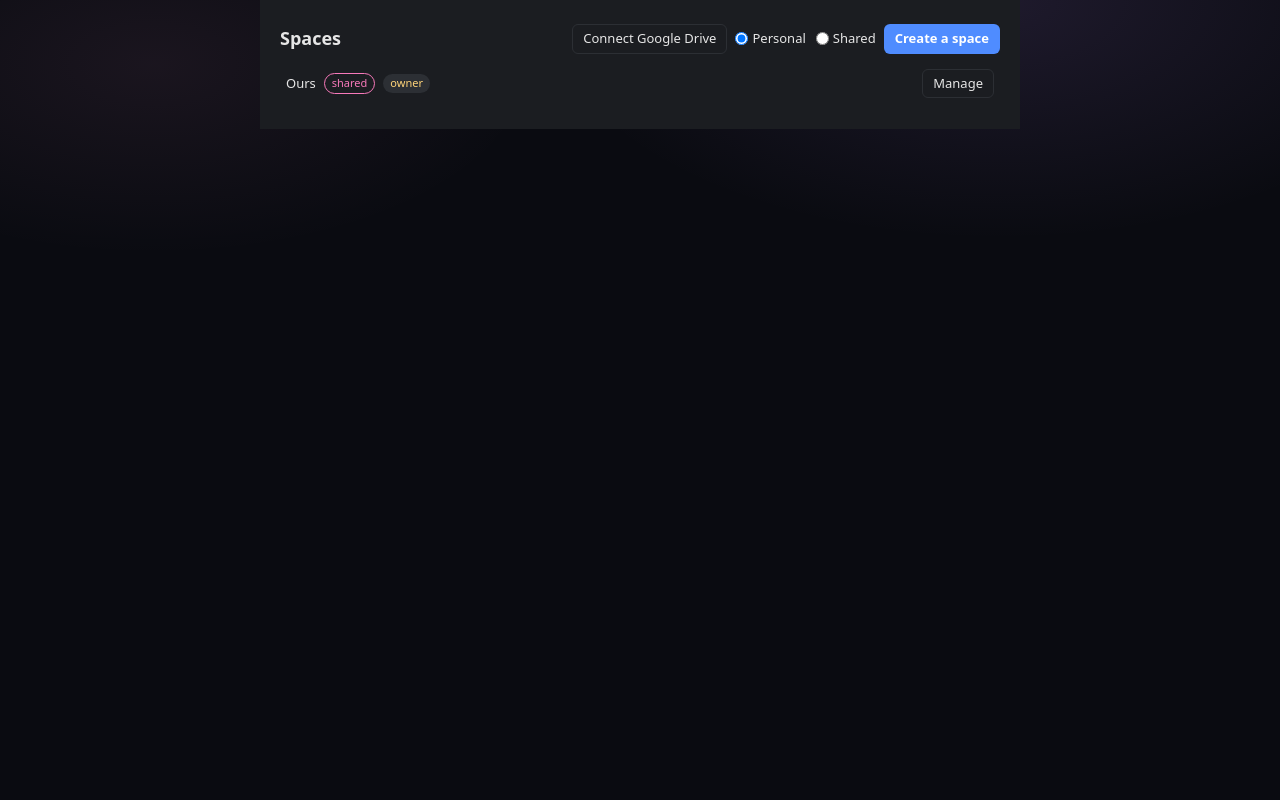
Scenario: R3-259 — a space's kind › a SHARED space's Manage modal offers no conversion — there is no way back
The image size is (1280, 800).
What coordinates should you click on to do the following:
click the button "Manage"
I would click on:
 (958, 83)
Its box is [922,68,994,98].
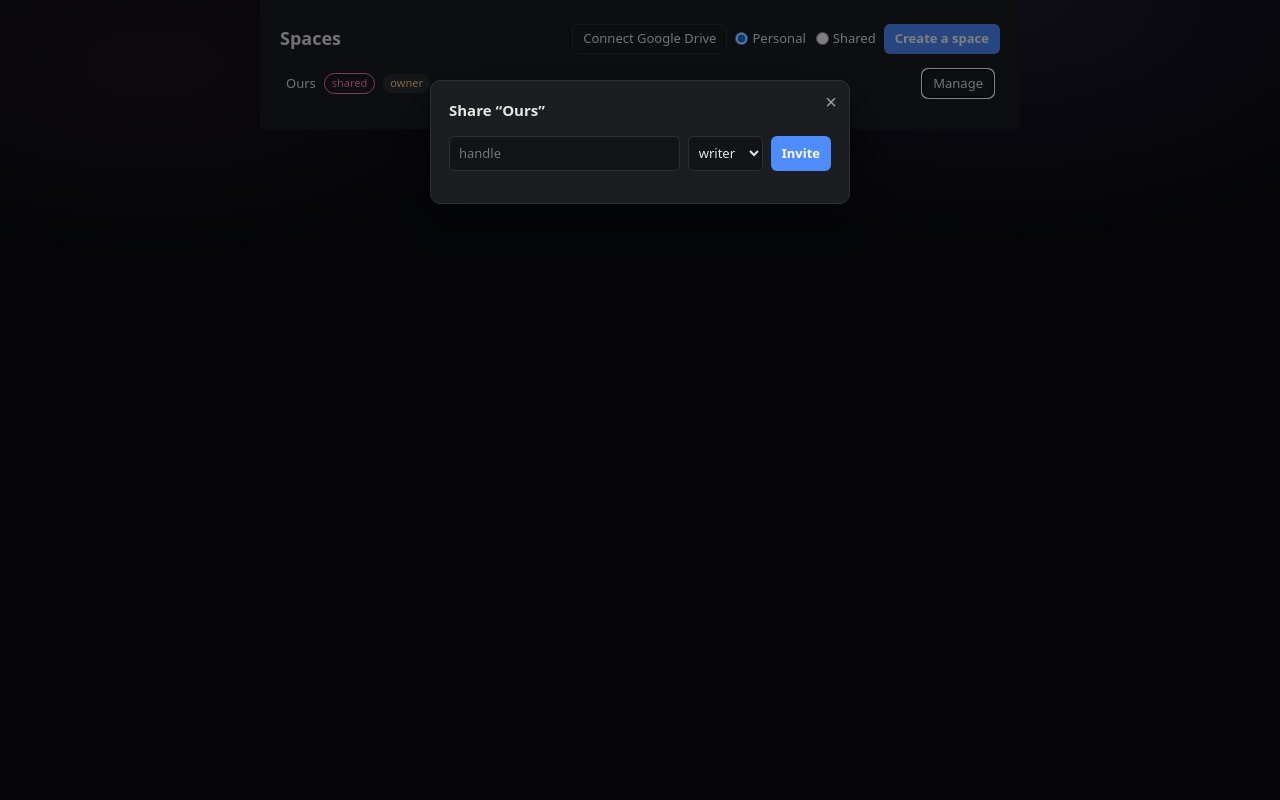
Now the heading "Share “Ours”" is shown, box [449,100,545,120]
